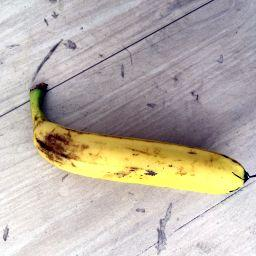Banana Ripe: (25, 83, 254, 198)
